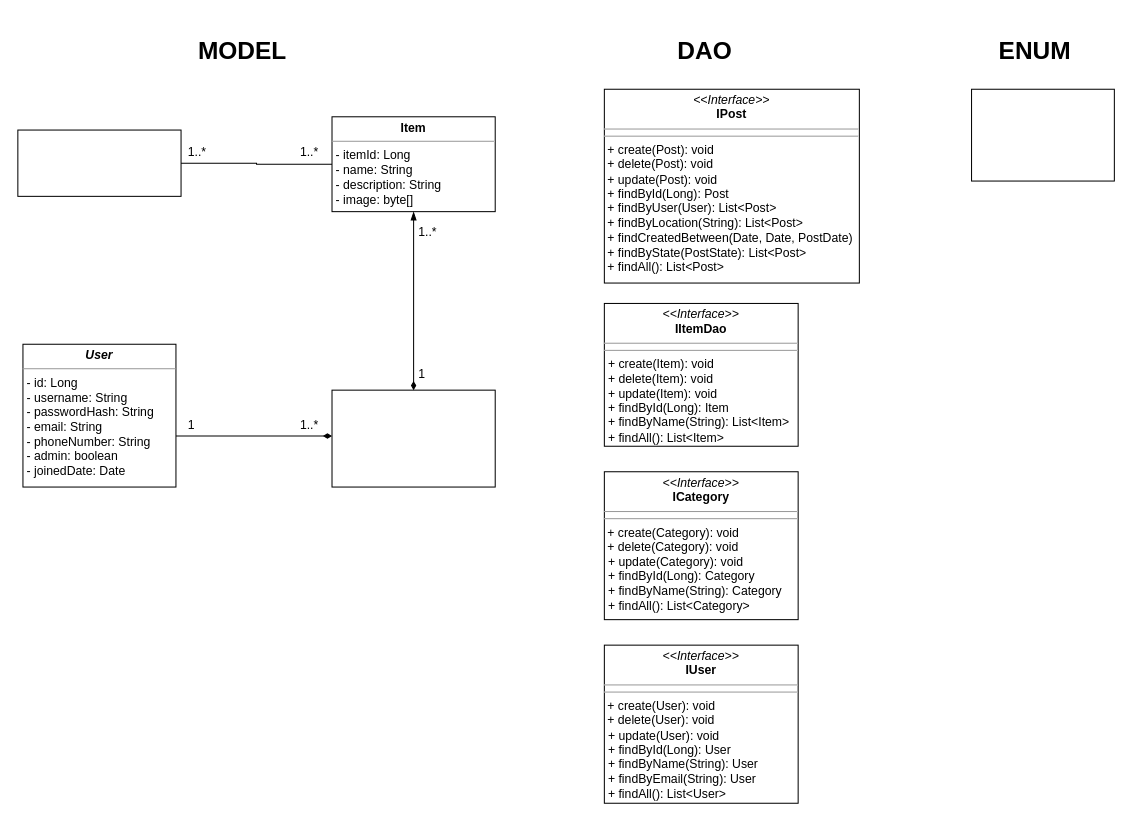
Image size: 1132x821. Some labels were removed from this diagram. The shapes that lost their labels are listed below. From the top down, each one's centre as x and y in pixels, then its label:
At point 1042,134: "<<Enumeration>> PostDate OPENED CLOSED".
At point 99,162: "Category - id: Long - name: String".
At point 413,438: "Post - id: Long - creationDate: Date - location: String - state: PostState".
